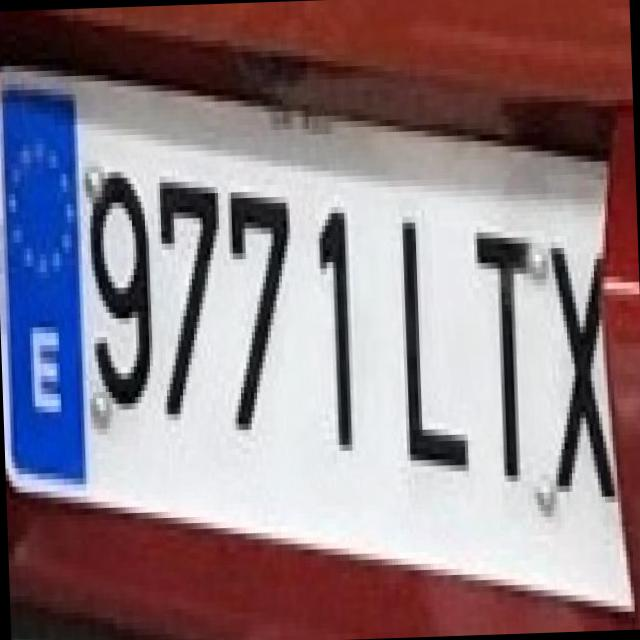1: (294, 182, 372, 446)
7: (214, 165, 304, 436), (142, 150, 228, 420)
9: (74, 152, 158, 410)
L: (378, 196, 475, 474)
T: (463, 212, 546, 482)
X: (530, 215, 621, 498)
